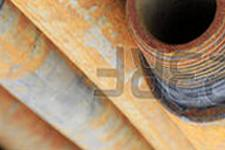rust: (78, 3, 225, 45), (7, 90, 71, 149)
